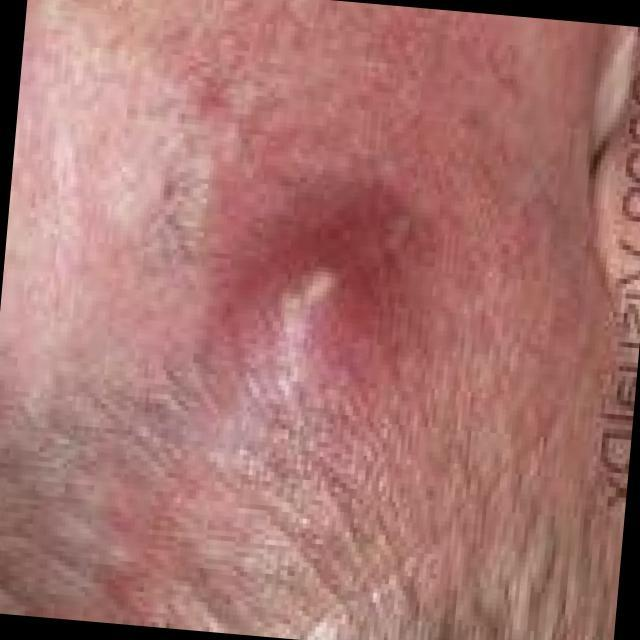Eczema: (172, 151, 444, 440)
